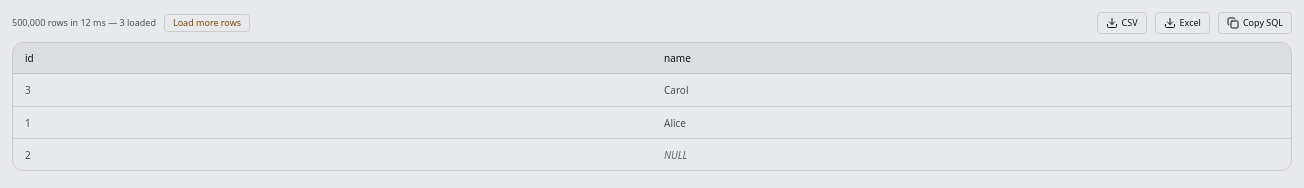
Test: ResultsGrid › surfaces a Load more failure inline rather than throwing
Step 1. Click the button with test id "results-load-more" → click(207, 23), box x1=164 y1=14 x2=250 y2=32
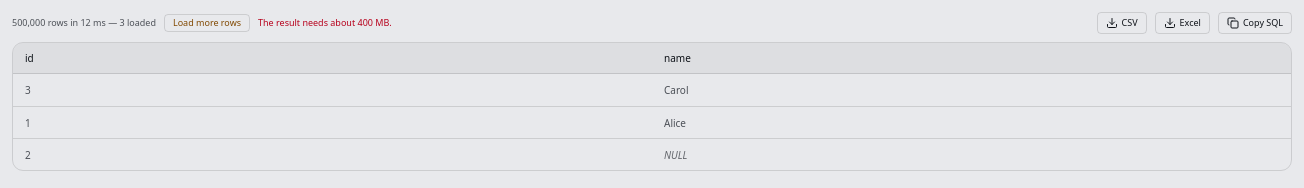
expect the message with test id "results-load-more-error" shows "400 MB": met, box x1=258 y1=16 x2=392 y2=29
